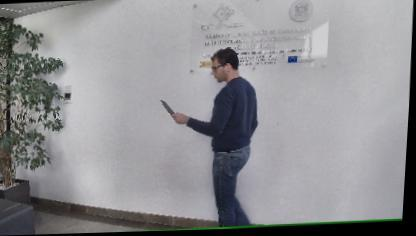knife: (160, 98, 182, 121)
